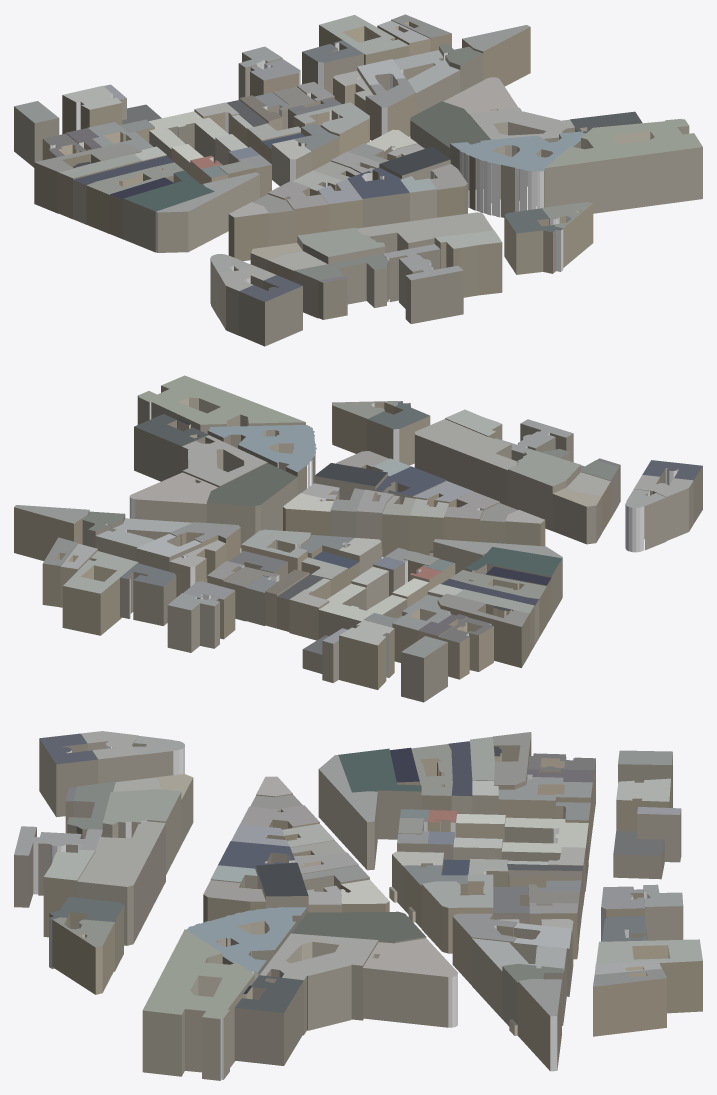
3 views of the same model, one above another, from view 1: azimuth 30°, elevation 25°; view 2: azimuth 150°, elevation 25°; view 3: azimuth 270°, elevation 25° (orthographic). The views are drawn at different scales.
Visible parts, largest first — view 1: tuile; view 2: tuile; view 3: tuile.
Part boxes in pixels (left/top/right/bottom): tuile: left=14, top=14, right=702, bottom=346; tuile: left=14, top=375, right=702, bottom=702; tuile: left=14, top=731, right=702, bottom=1080.
Size of the model in its own units: 293 by 31.23 by 284.
